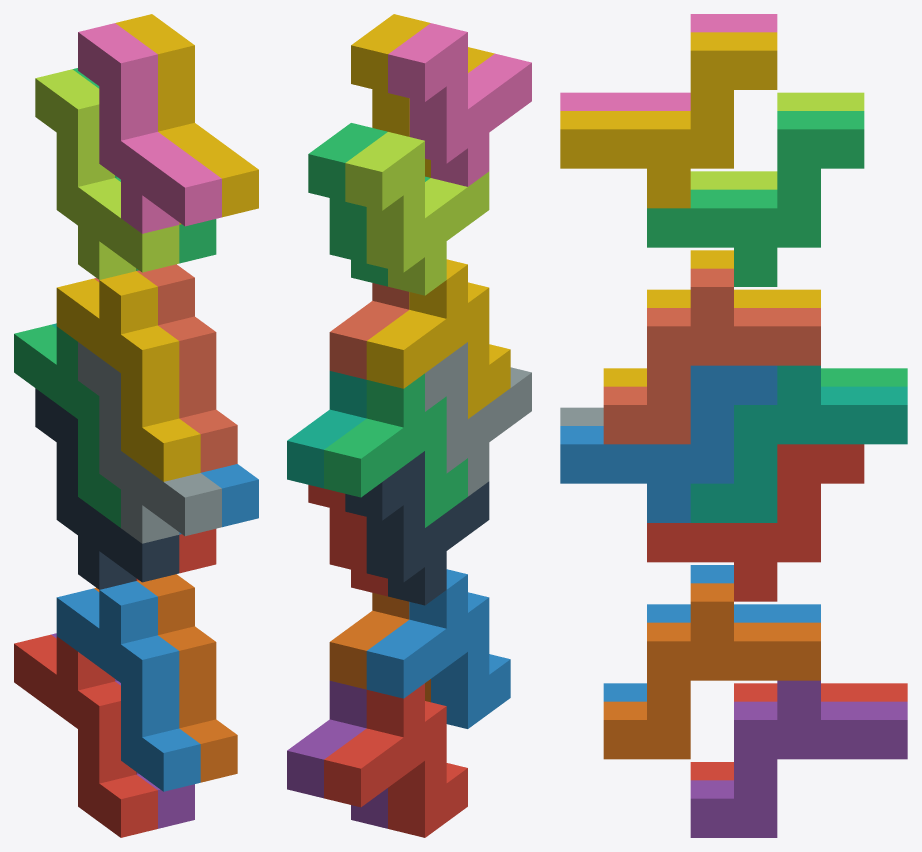
Rendered from tiling.obj.
3 renders of one model, left to right at view 1: azimuth 30°, elevation 25°; view 2: azimuth 150°, elevation 25°; view 3: azimuth 270°, elevation 25°, orthographic.
Visible parts, largest first — view 1: copy_1_domain_4, copy_1_domain_2, copy_2_domain_4, copy_2_domain_3, copy_1_domain_1, copy_2_domain_2, copy_2_domain_1, copy_2_domain_8, copy_1_domain_6, copy_1_domain_8, copy_1_domain_3, copy_2_domain_6 (+3 smaller); view 2: copy_2_domain_4, copy_2_domain_3, copy_1_domain_1, copy_1_domain_2, copy_1_domain_4, copy_1_domain_3, copy_2_domain_1, copy_2_domain_2, copy_2_domain_7, copy_1_domain_5, copy_2_domain_8, copy_1_domain_7 (+3 smaller); view 3: copy_1_domain_6, copy_1_domain_8, copy_2_domain_8, copy_1_domain_5, copy_2_domain_7, copy_1_domain_7, copy_2_domain_6, copy_2_domain_5, copy_1_domain_4, copy_1_domain_2, copy_2_domain_4, copy_2_domain_3 (+3 smaller).
Part boxes in pixels (x1=…): copy_1_domain_4: x1=56, y1=271, x2=200, y2=481; copy_1_domain_2: x1=56, y1=581, x2=200, y2=791; copy_2_domain_4: x1=78, y1=23, x2=221, y2=233; copy_2_domain_3: x1=35, y1=69, x2=179, y2=279; copy_1_domain_1: x1=14, y1=634, x2=157, y2=837; copy_2_domain_2: x1=78, y1=342, x2=221, y2=543; copy_2_domain_1: x1=35, y1=388, x2=179, y2=589; copy_2_domain_8: x1=115, y1=14, x2=258, y2=224; copy_1_domain_6: x1=94, y1=574, x2=237, y2=782; copy_1_domain_8: x1=94, y1=264, x2=237, y2=472; copy_1_domain_3: x1=14, y1=324, x2=120, y2=527; copy_2_domain_6: x1=179, y1=464, x2=258, y2=534; copy_2_domain_4: x1=388, y1=23, x2=531, y2=186; copy_2_domain_3: x1=345, y1=132, x2=489, y2=295; copy_1_domain_1: x1=324, y1=683, x2=467, y2=837; copy_1_domain_2: x1=366, y1=569, x2=510, y2=728; copy_1_domain_4: x1=366, y1=259, x2=510, y2=418; copy_1_domain_3: x1=324, y1=373, x2=467, y2=527; copy_2_domain_1: x1=345, y1=451, x2=489, y2=605; copy_2_domain_2: x1=425, y1=342, x2=531, y2=496; copy_2_domain_7: x1=308, y1=123, x2=430, y2=286; copy_1_domain_5: x1=287, y1=680, x2=387, y2=828; copy_2_domain_8: x1=351, y1=14, x2=494, y2=177; copy_1_domain_7: x1=287, y1=371, x2=366, y2=488; copy_1_domain_6: x1=603, y1=583, x2=820, y2=759; copy_1_domain_8: x1=603, y1=268, x2=820, y2=444; copy_2_domain_8: x1=560, y1=32, x2=777, y2=208; copy_1_domain_5: x1=690, y1=680, x2=907, y2=837; copy_2_domain_7: x1=647, y1=111, x2=864, y2=286; copy_1_domain_7: x1=690, y1=365, x2=907, y2=522; copy_2_domain_6: x1=560, y1=365, x2=777, y2=522; copy_2_domain_5: x1=647, y1=444, x2=864, y2=601; copy_1_domain_4: x1=603, y1=250, x2=820, y2=386; copy_1_domain_2: x1=603, y1=565, x2=820, y2=701; copy_2_domain_4: x1=560, y1=14, x2=777, y2=110; copy_2_domain_3: x1=690, y1=92, x2=864, y2=189.
Size of the model in its own units: 2 by 20 by 8.
